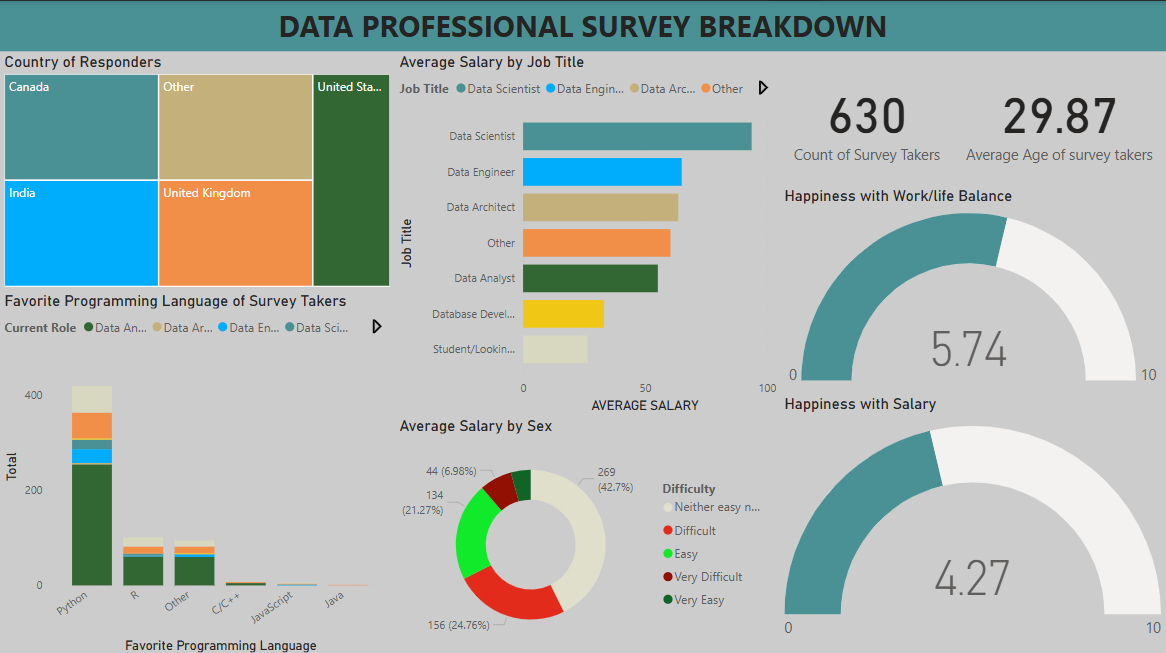

The dashboard page shown, as its layout file describes it:
{"tool":"powerbi","page":{"name":"Page 2","canvas":[1280,720],"ordinal":0},"visuals":[{"type":"textbox","box":[0,0,1280,55.6],"z":0},{"type":"card","fields":{"Values":["Count(Data Professional Survey.Unique ID)"]},"box":[856.7,55.6,191,146.8],"z":1000},{"type":"card","fields":{"Values":["Avg(Data Professional Survey.Q10 - Current Age)"]},"box":[1047.7,55.6,232.3,146.8],"z":2000},{"type":"barChart","title":"Average Salary by  Job Title","fields":{"Y":["Avg(Data Professional Survey.AVERAGE SALARY)"],"Category":["Data Professional Survey.Q1 - Which Title Best Fits your Current Role?.1"],"Series":["Data Professional Survey.Q1 - Which Title Best Fits your Current Role?.1"]},"box":[433.3,55.6,423.3,400.5],"z":3000},{"type":"columnChart","title":"Favorite Programming Language  of Survey Takers","fields":{"Y":["CountNonNull(Data Professional Survey.Unique ID)"],"Category":["Data Professional Survey.Q5 - Favorite Programming Language.1"],"Series":["Data Professional Survey.Q1 - Which Title Best Fits your Current Role?.1"]},"box":[0,317.9,433.3,402],"z":4000},{"type":"treemap","title":"Country of Responders","fields":{"Group":["Data Professional Survey.Q11 - Which Country do you live in?.1"],"Values":["Count(Data Professional Survey.Q11 - Which Country do you live in?.1)"]},"box":[0,55.6,433.3,262.3],"z":5000},{"type":"gauge","title":"Happiness with Work/life Balance","fields":{"Y":["Avg(Data Professional Survey.Q6 - How Happy are you in your Current Position with the following? (Work/Life Balance))"],"MinValue":["Min(Data Professional Survey.Q6 - How Happy are you in your Current Position with the following? (Work/Life Balance))"],"MaxValue":["Max(Data Professional Survey.Q6 - How Happy are you in your Current Position with the following? (Work/Life Balance))1"]},"box":[856.7,202.4,423.3,229.5],"z":6000},{"type":"gauge","title":"Happiness with Salary","fields":{"Y":["Avg(Data Professional Survey.Q6 - How Happy are you in your Current Position with the following? (Salary))"],"MinValue":["Min(Data Professional Survey.Q6 - How Happy are you in your Current Position with the following? (Salary))"],"MaxValue":["Max(Data Professional Survey.Q6 - How Happy are you in your Current Position with the following? (Salary))"]},"box":[856.7,431.9,423.3,287.9],"z":7000},{"type":"donutChart","title":" Average Salary by Sex","fields":{"Category":["Data Professional Survey.Q7 - How difficult was it for you to break into Data?"],"Y":["CountNonNull(Data Professional Survey.Q7 - How difficult was it for you to break into Data?)"]},"box":[433.3,456.1,423.3,263.7],"z":8000}]}

Visuals, with their boxes in screenshot pixels (x1, y1, x2, y2), scaled from the page's 1280x720 canvas onto the 1166x653 screenshot:
textbox: <box>0,0,1165,50</box>
card - Count(Data Professional Survey.Unique ID): <box>780,50,954,184</box>
card - Avg(Data Professional Survey.Q10 - Current Age): <box>954,50,1165,184</box>
"Average Salary by  Job Title" barChart: <box>395,50,780,414</box>
"Favorite Programming Language  of Survey Takers" columnChart: <box>0,288,395,652</box>
"Country of Responders" treemap: <box>0,50,395,288</box>
"Happiness with Work/life Balance" gauge: <box>780,184,1165,392</box>
"Happiness with Salary" gauge: <box>780,392,1165,652</box>
" Average Salary by Sex" donutChart: <box>395,414,780,652</box>
